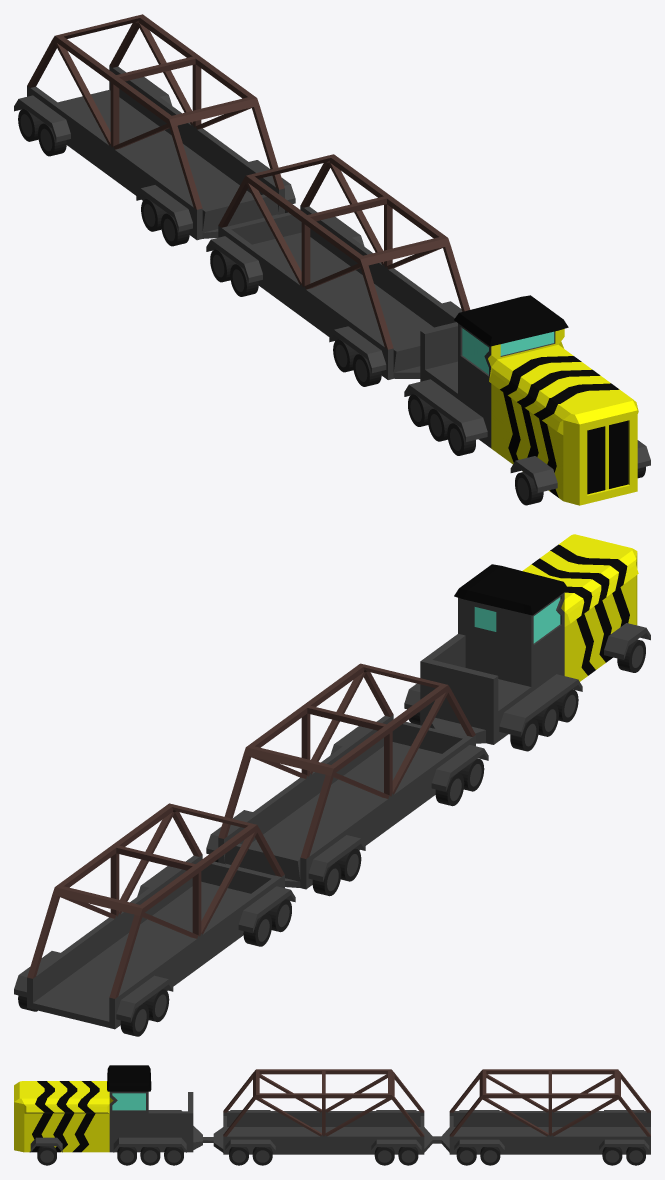
Rendered from trainEmpty.fbx.
3 views of the same model, one above another, from view 1: azimuth 30°, elevation 25°; view 2: azimuth 150°, elevation 25°; view 3: azimuth 270°, elevation 25° (orthographic). The views are drawn at different scales.
Visible parts, largest first — view 1: Train; view 2: Train; view 3: Train.
Boxes of the visible parts, <box> form: Train: <box>14,14,650,505</box>; Train: <box>14,534,650,1036</box>; Train: <box>14,1065,650,1165</box>.
Bounding box in the file's own units: 8.04 × 8.16 × 64.03.
